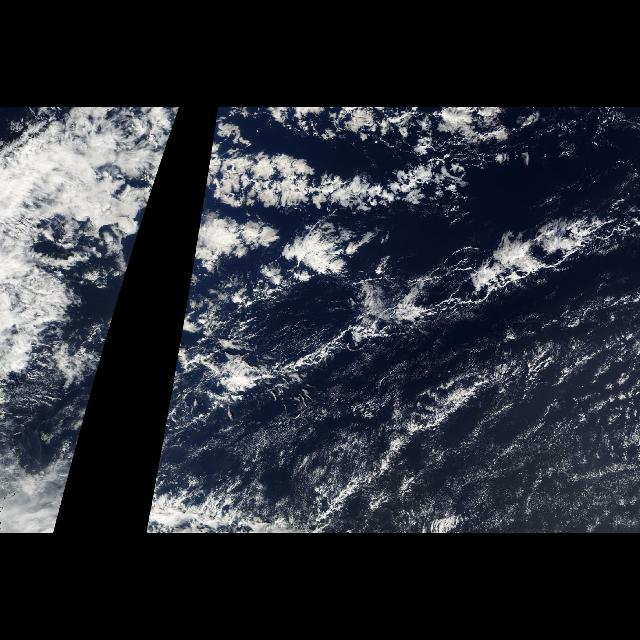Fish: (183, 110, 639, 388), (90, 110, 180, 320)
Sugar: (197, 316, 639, 534), (200, 143, 482, 217)
